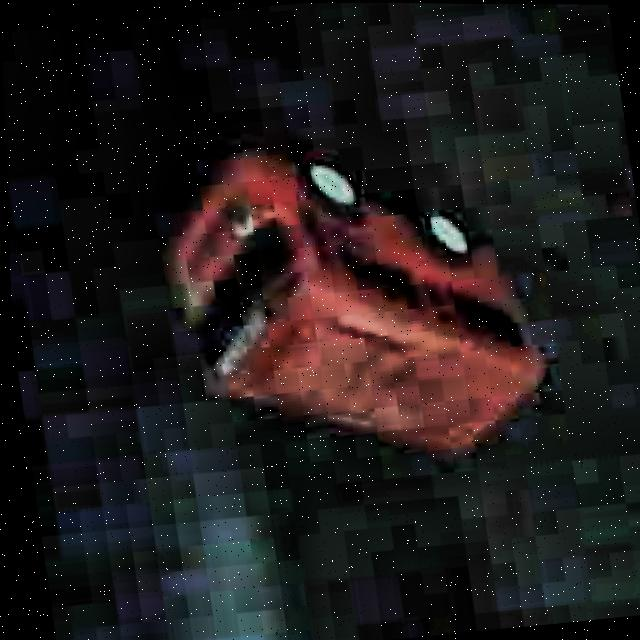bus: (145, 91, 566, 496)
